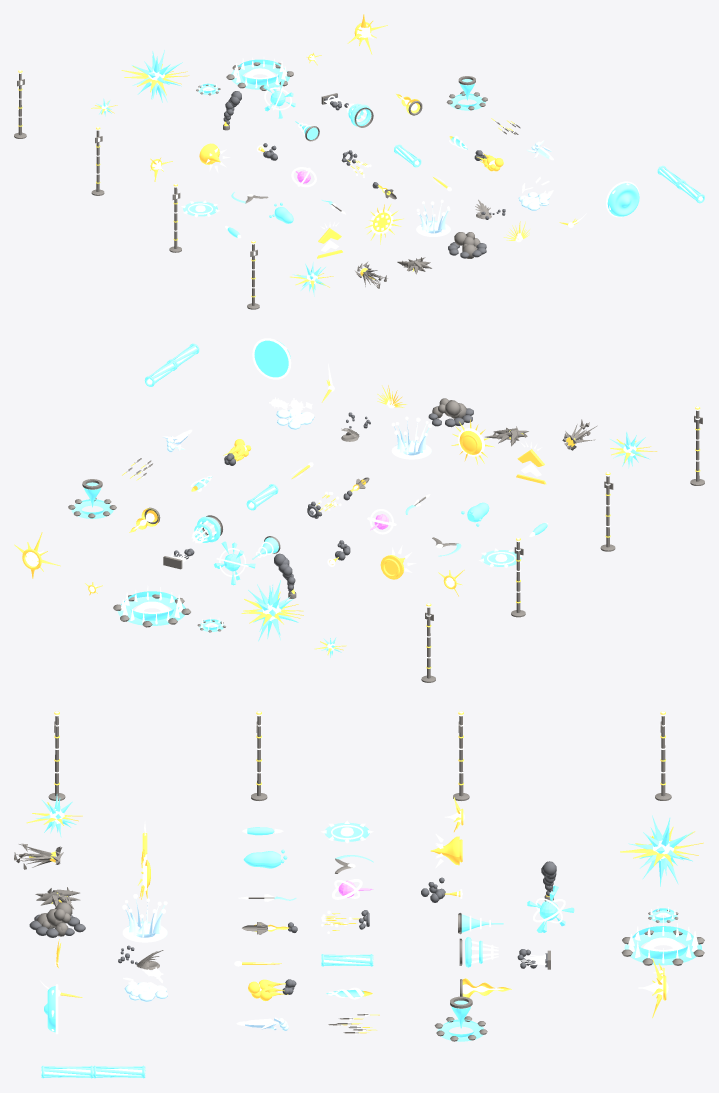
3 views of the same model, one above another, from view 1: azimuth 30°, elevation 25°; view 2: azimuth 150°, elevation 25°; view 3: azimuth 270°, elevation 25° (orthographic). The views are drawn at different scales.
Visible parts, largest first — view 1: 042-shockwave-ring-large/0, 006-shield-ripple-dome/0, 040-radial-impact-burst-large/1, 009-water-splash-crown/0, 042-shockwave-ring-large/1, 034-hover-jet-cone/0; view 2: 042-shockwave-ring-large/0, 006-shield-ripple-dome/0, 009-water-splash-crown/0, 040-radial-impact-burst-large/1, 042-shockwave-ring-large/1, 034-hover-jet-cone/0, 008-armour-spark-ring/1, 011-snow-puff/0; view 3: 042-shockwave-ring-large/0, 040-radial-impact-burst-large/1, 009-water-splash-crown/0, 042-shockwave-ring-large/1, 034-hover-jet-cone/0, 003-dust-puff-dome/0, 036-charge-up-sphere/0, 001-directional-spall-cone/0, 014-plasma-teardrop/0, 011-snow-puff/0.
Boxes of the visible parts, box(x1,y1,x2,y2) form: 042-shockwave-ring-large/0: box(231, 59, 289, 89); 006-shield-ripple-dome/0: box(607, 183, 639, 216); 040-radial-impact-burst-large/1: box(132, 50, 182, 102); 009-water-splash-crown/0: box(416, 203, 450, 236); 042-shockwave-ring-large/1: box(233, 57, 287, 88); 034-hover-jet-cone/0: box(449, 79, 485, 110); 042-shockwave-ring-large/0: box(117, 591, 185, 625); 006-shield-ripple-dome/0: box(254, 340, 290, 377); 009-water-splash-crown/0: box(391, 420, 431, 459); 040-radial-impact-burst-large/1: box(248, 580, 298, 641); 042-shockwave-ring-large/1: box(121, 585, 182, 624); 034-hover-jet-cone/0: box(71, 482, 113, 518); 008-armour-spark-ring/1: box(451, 419, 494, 464); 011-snow-puff/0: box(276, 408, 314, 429); 042-shockwave-ring-large/0: box(624, 926, 701, 965); 040-radial-impact-burst-large/1: box(628, 815, 692, 886); 009-water-splash-crown/0: box(122, 899, 167, 942); 042-shockwave-ring-large/1: box(628, 920, 698, 963); 034-hover-jet-cone/0: box(437, 1000, 483, 1041); 003-dust-puff-dome/0: box(36, 902, 72, 936); 036-charge-up-sphere/0: box(527, 885, 574, 932); 001-directional-spall-cone/0: box(14, 843, 63, 869); 014-plasma-teardrop/0: box(243, 849, 287, 868); 011-snow-puff/0: box(124, 982, 167, 1001).
Bounding box in the file's own units: 13.09 × 1.83 × 13.34.
